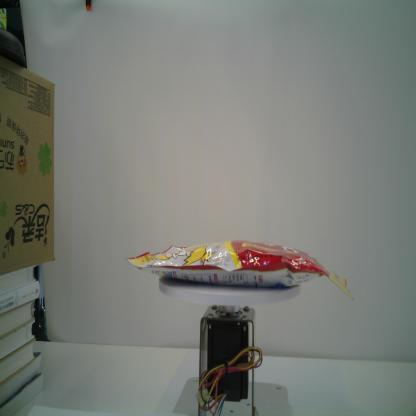Instant Drink: (124, 238, 357, 303)
